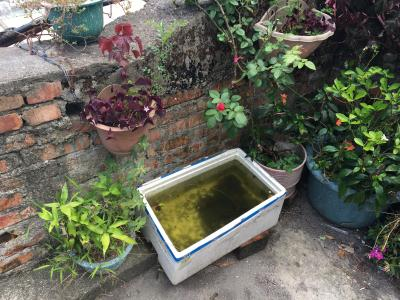styrofoam: (138, 147, 288, 286)
